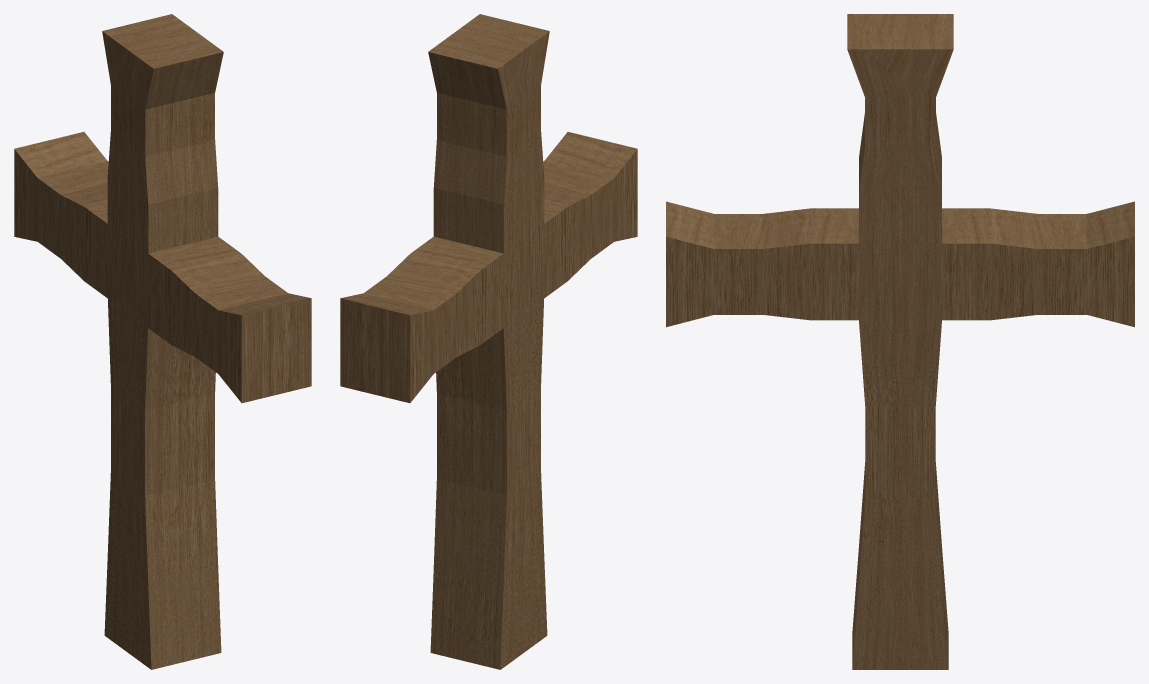
File: crucifix.gltf
The picture shows the model from 3 angles, left to right: view 1: azimuth 30°, elevation 25°; view 2: azimuth 150°, elevation 25°; view 3: azimuth 270°, elevation 25°; orthographic projection. The views are drawn at different scales.
Visible parts, largest first — view 1: Cube; view 2: Cube; view 3: Cube.
Boxes of the visible parts, bbox=[...] form: Cube: bbox=[14, 14, 311, 669]; Cube: bbox=[340, 14, 637, 669]; Cube: bbox=[666, 14, 1134, 669].
Bounding box in the file's own units: 20.4 × 168 × 115.
1 material, 1 textured.
